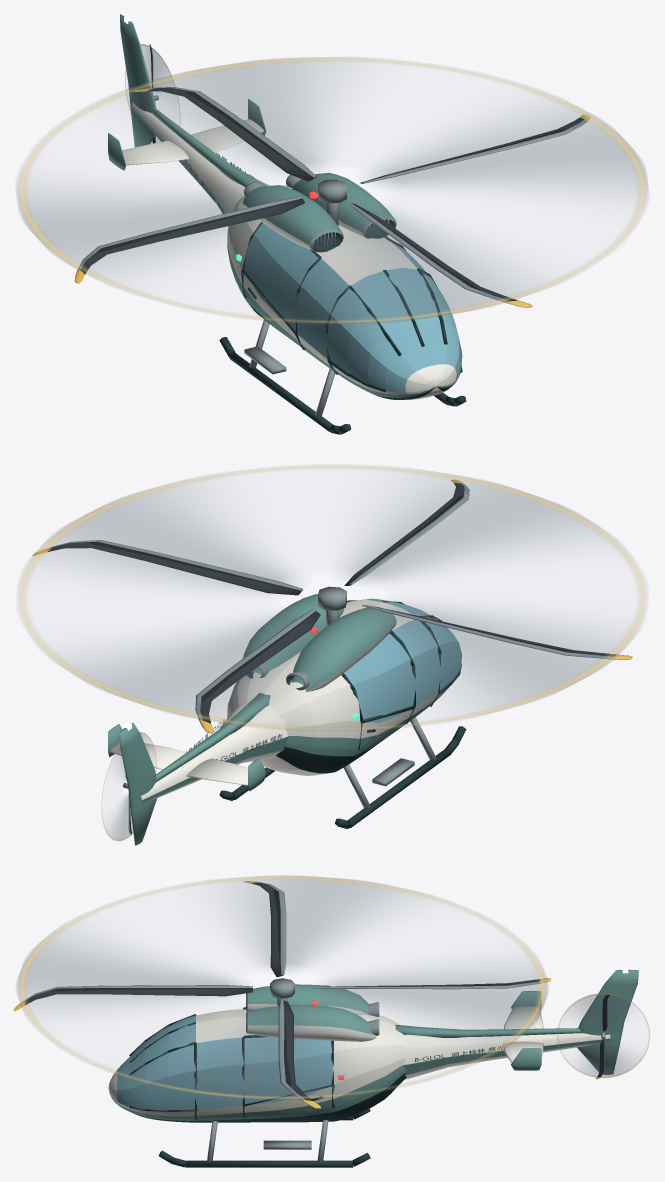
File: helicopter_tour_lod1.glb
3 views of the same model, one above another, from view 1: azimuth 30°, elevation 25°; view 2: azimuth 150°, elevation 25°; view 3: azimuth 270°, elevation 25° (orthographic). The views are drawn at different scales.
Visible parts, largest first — view 1: rotor_blur_main, airframe, fuselage_skin, rotor_main, door_R, door_front_R, rotor_blur_tail; view 2: rotor_blur_main, airframe, fuselage_skin, rotor_main, door_R, door_front_R, rotor_blur_tail, step_R; view 3: rotor_blur_main, airframe, fuselage_skin, rotor_main, door_L, door_front_L, rotor_blur_tail, step_L, rotor_tail.
Part boxes in pixels (x1,y1,x2,y2): rotor_blur_main: (16, 57, 648, 323); airframe: (108, 14, 466, 434); fuselage_skin: (227, 185, 462, 399); rotor_main: (74, 87, 589, 307); door_R: (241, 222, 321, 349); door_front_R: (295, 259, 348, 369); rotor_blur_tail: (125, 44, 180, 143); rotor_blur_main: (18, 465, 646, 730); airframe: (108, 594, 466, 845); fuselage_skin: (227, 598, 462, 775); rotor_main: (32, 479, 632, 733); door_R: (341, 630, 415, 749); door_front_R: (392, 619, 441, 720); rotor_blur_tail: (101, 732, 156, 840); step_R: (372, 758, 414, 786); rotor_blur_main: (16, 875, 548, 1099); airframe: (129, 969, 638, 1167); fuselage_skin: (108, 1009, 406, 1122); rotor_main: (14, 881, 550, 1108); door_L: (242, 1035, 334, 1117); door_front_L: (196, 1037, 243, 1118); rotor_blur_tail: (557, 993, 649, 1077); step_L: (263, 1140, 311, 1149); rotor_tail: (595, 993, 611, 1079).
Size of the model in its own units: 10.3 by 3.71 by 12.22.
Materials: 13 (3 with a texture image).
